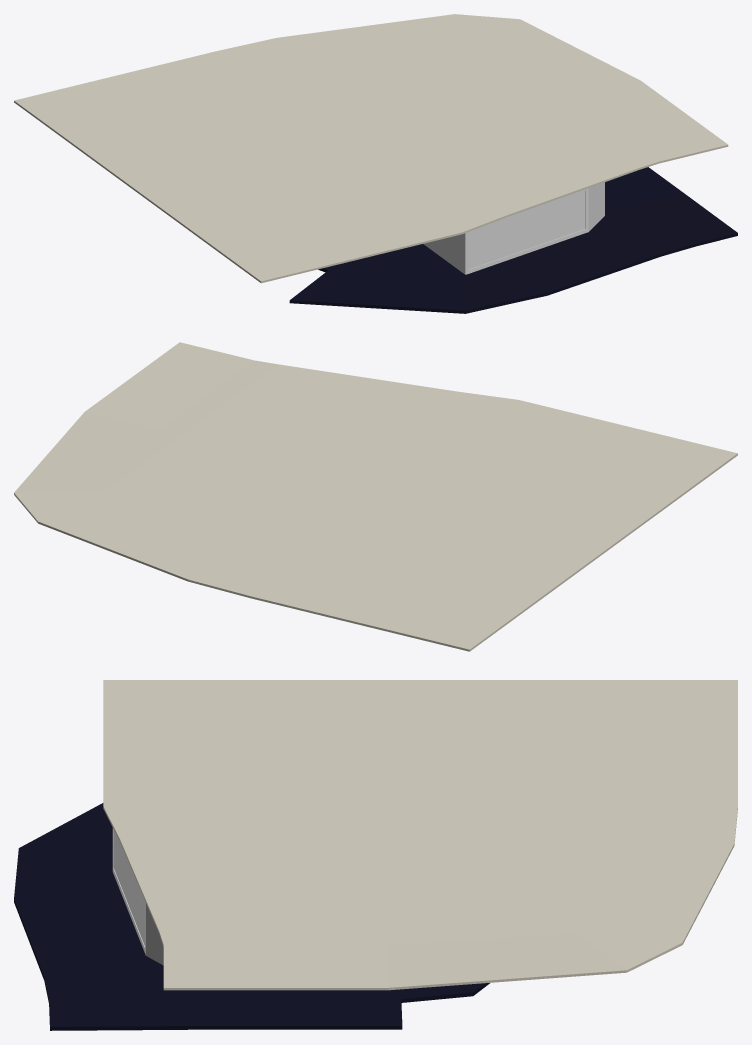
The model's file is Office.fbx.
3 renders of one model, top to bottom at view 1: azimuth 30°, elevation 25°; view 2: azimuth 150°, elevation 25°; view 3: azimuth 270°, elevation 25°, orthographic. The views are drawn at different scales.
Parts seen in each view (by area): view 1: Ceiling, Floor, FrontWindow, OfficeWalls; view 2: Ceiling; view 3: Ceiling, Floor, FrontWindow, OfficeWalls.
Boxes of the visible parts, x1=… form: Ceiling: x1=14, y1=14, x2=728, y2=283; Floor: x1=289, y1=167, x2=737, y2=313; FrontWindow: x1=469, y1=191, x2=585, y2=268; OfficeWalls: x1=423, y1=182, x2=604, y2=274; Ceiling: x1=14, y1=342, x2=737, y2=651; Ceiling: x1=103, y1=680, x2=737, y2=990; Floor: x1=14, y1=803, x2=489, y2=1030; FrontWindow: x1=114, y1=830, x2=144, y2=945; OfficeWalls: x1=112, y1=828, x2=163, y2=965.
Bounding box in the file's own units: 5681 × 559 × 5653.
